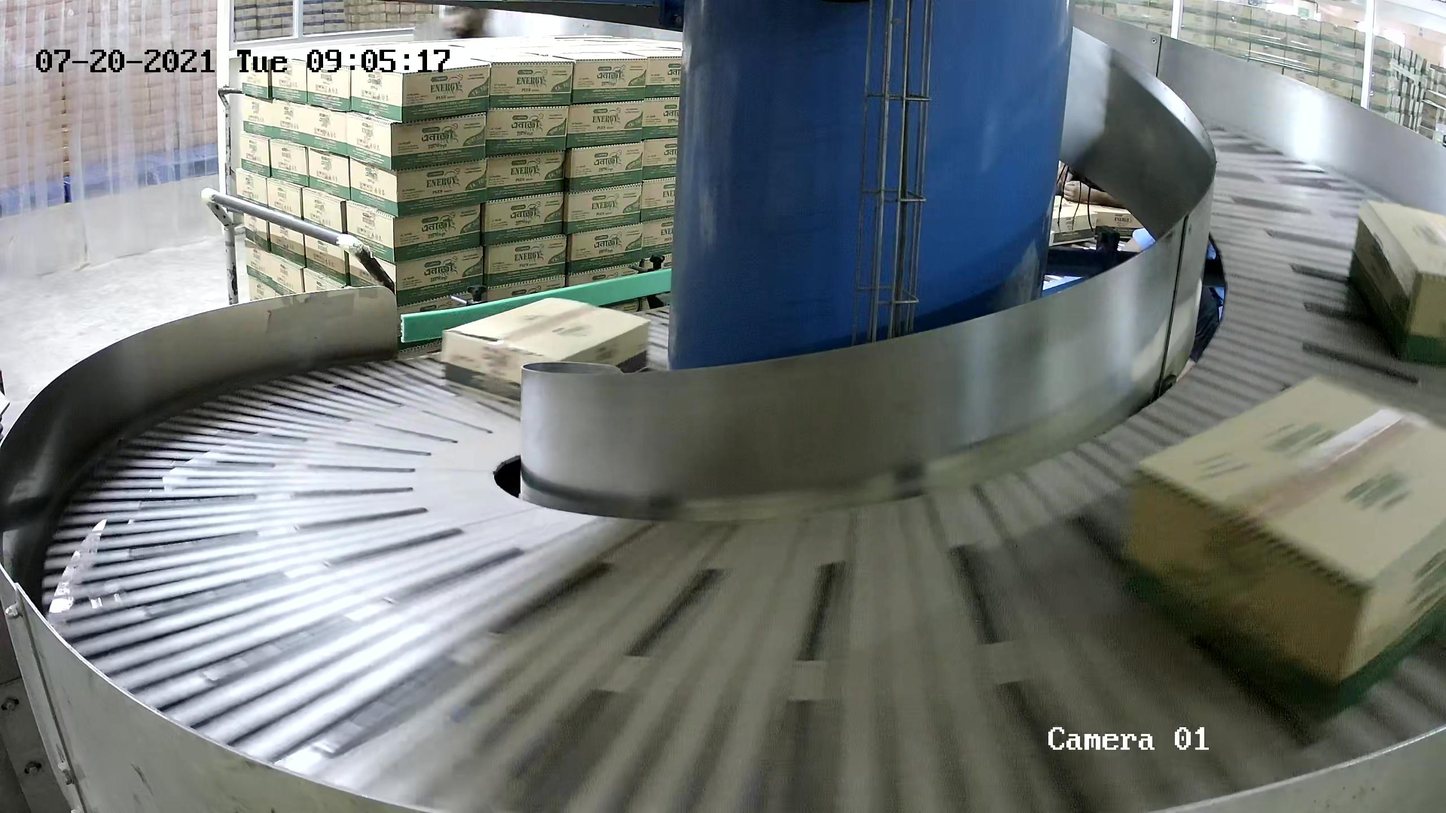Box: (1124, 372, 1446, 726), (442, 297, 650, 414), (1345, 198, 1446, 368)
